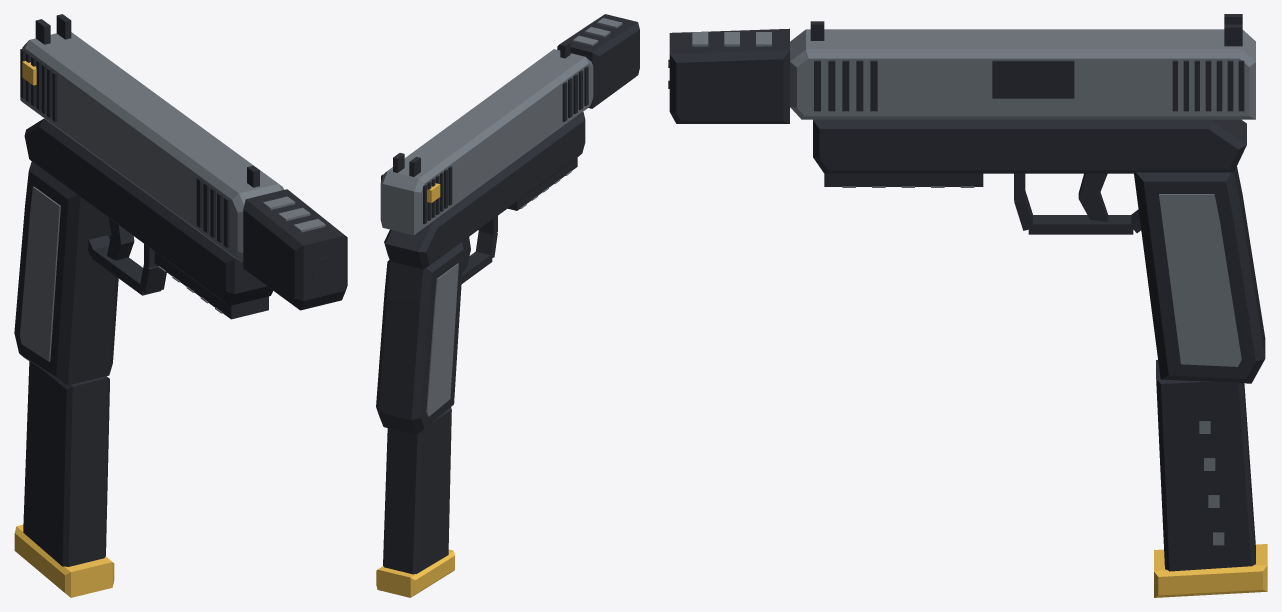
File: machine_pistol.glb
3 views of the same model, side by side, from view 1: azimuth 30°, elevation 25°; view 2: azimuth 150°, elevation 25°; view 3: azimuth 270°, elevation 25° (orthographic). The views are drawn at different scales.
Parts seen in each view (by area): view 1: machine_pistol_mesh, SLIDE, MAGAZINE, TRIGGER; view 2: machine_pistol_mesh, SLIDE, MAGAZINE; view 3: machine_pistol_mesh, SLIDE, MAGAZINE, TRIGGER.
Boxes of the visible parts, x1,y1,x2,y2 form: machine_pistol_mesh: (14,118,347,385); SLIDE: (20,14,283,262); MAGAZINE: (14,361,114,597); TRIGGER: (107,218,134,260); machine_pistol_mesh: (376,14,639,434); SLIDE: (380,41,593,235); MAGAZINE: (376,407,454,597); machine_pistol_mesh: (668,28,1265,383); SLIDE: (790,14,1255,119); MAGAZINE: (1154,360,1267,597); TRIGGER: (1078,173,1108,221).
Bounding box in the file's own units: 0.0322 × 0.275 × 0.2635.
Materials: 1 (1 with a texture image).
